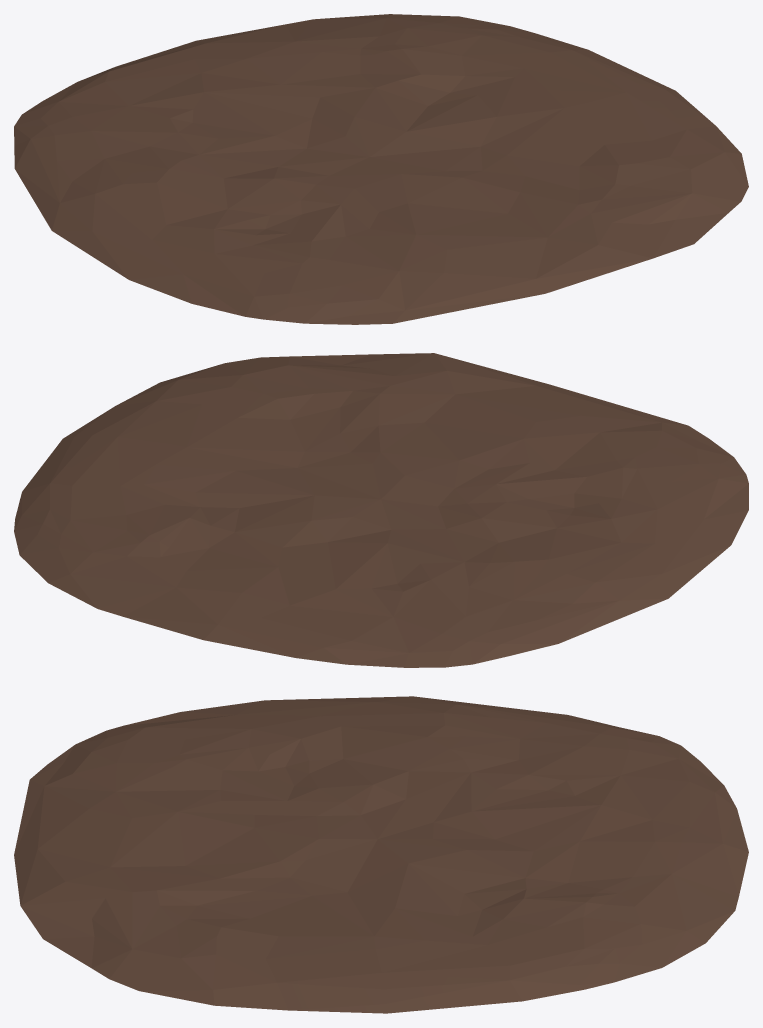
The model's file is synty-terrain-ground-mound-large-01.gltf.
3 renders of one model, top to bottom at view 1: azimuth 30°, elevation 25°; view 2: azimuth 150°, elevation 25°; view 3: azimuth 270°, elevation 25°, orthographic. The views are drawn at different scales.
Visible parts, largest first — view 1: SM_Terrain_Ground_Mound_Large_01; view 2: SM_Terrain_Ground_Mound_Large_01; view 3: SM_Terrain_Ground_Mound_Large_01.
Part boxes in pixels (x1,y1,x2,y2): SM_Terrain_Ground_Mound_Large_01: [14, 14, 748, 324]; SM_Terrain_Ground_Mound_Large_01: [14, 353, 748, 667]; SM_Terrain_Ground_Mound_Large_01: [14, 696, 748, 1013].
Bounding box in the file's own units: 12.74 × 0.3388 × 12.47.
1 material, 1 textured.
